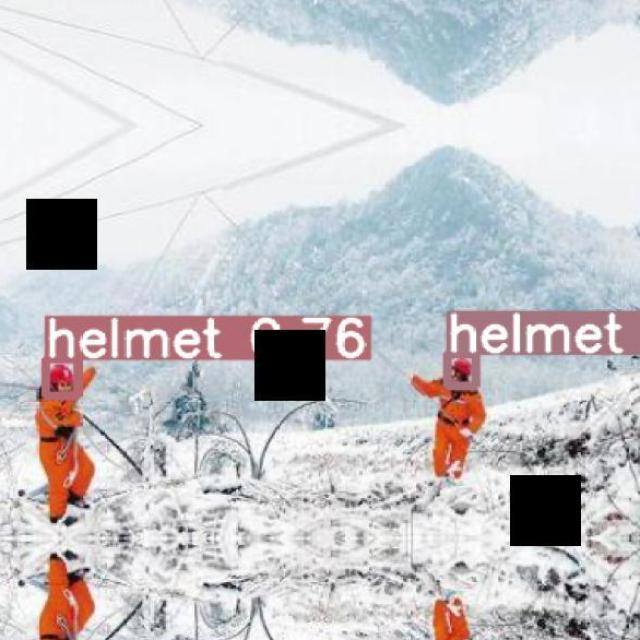helmet: (49, 363, 73, 388), (451, 357, 472, 376)
